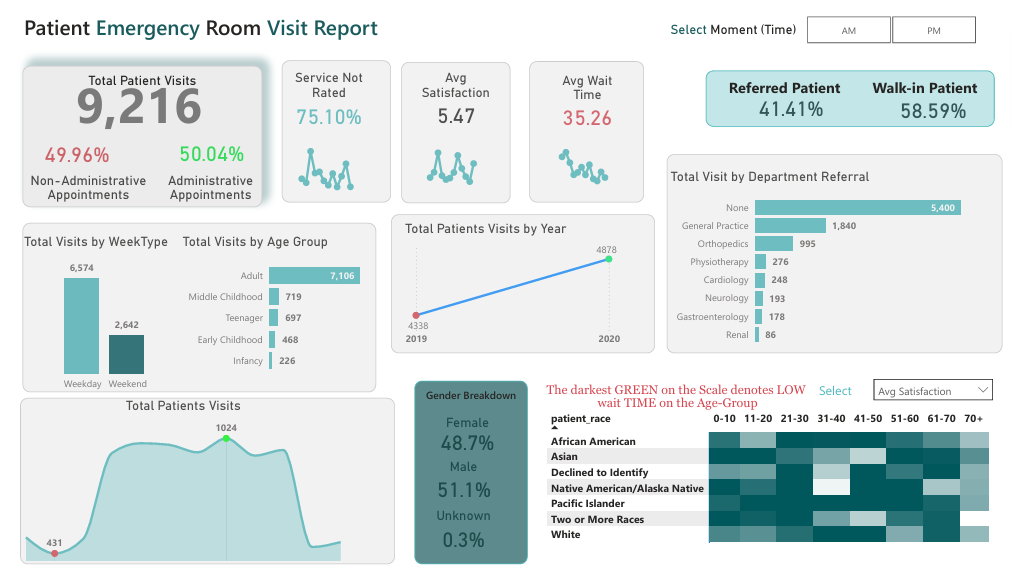

The dashboard page shown, as its layout file describes it:
{"tool":"powerbi","page":{"name":"Page 1","canvas":[1280,720],"ordinal":0},"visuals":[{"type":"card","fields":{"Values":["Calculations.Total Patients"]},"box":[11.7,71.7,305,111.7],"z":0},{"type":"card","fields":{"Values":["Calculations.% Adminstratitive Schedule"]},"box":[201.7,168.3,110,50],"z":1000},{"type":"card","fields":{"Values":["Calculations.% Non Adminstratitive Schedule"]},"box":[30,168.3,110,51.7],"z":2000},{"type":"card","title":"Avg Wait Time","fields":{"Values":["Calculations.Average Wait Time"]},"box":[691.4,90,94.3,77.1],"z":3000},{"type":"pivotTable","fields":{"Values":["Calculations.Average Satisfaction Score"],"Rows":["Patient Dataset.patient_race"],"Columns":["Patient Dataset.Age Bucket"]},"box":[681.7,518.3,578.3,190],"z":4000},{"type":"slicer","fields":{"Values":["Parameter.Parameter"]},"box":[1095,473.3,173.3,40],"z":5000},{"type":"barChart","title":"Total Visits by Age Group","fields":{"Y":["Calculations.Total Patients"],"Category":["Patient Dataset.Age Group"]},"box":[215,296.7,271.7,190],"z":6000},{"type":"areaChart","title":"Total Patients Visits","fields":{"Category":["Date.Month"],"Y":["Calculations.Total Patients","Calculations.Values Max Point (Month)"]},"box":[0,506.7,441.7,213.3],"z":7000},{"type":"slicer","fields":{"Values":["Patient Dataset.moment"]},"box":[994,12,266,48],"z":8000},{"type":"lineChart","title":"Total Patients Visits by Year","fields":{"Category":["Date.Year"],"Y":["Calculations.Total Patients","Calculations.Values Max Point (Year)"]},"box":[500,280,285,170],"z":9000},{"type":"lineChart","title":"Total Visits by Department Referral","fields":{"Category":["Date.MonthNum"],"Y":["Calculations.Average Satisfaction Score"]},"box":[351.7,171.7,115,78.3],"z":10000},{"type":"card","fields":{"Values":["Calculations.% Referred Patients"]},"box":[926.7,111.7,145,48.3],"z":11000},{"type":"card","fields":{"Values":["Calculations.% Un Referred Patients"]},"box":[1115,115,131.7,45],"z":12000},{"type":"card","fields":{"Values":["Calculations.HitMap Caption"]},"box":[665,473.3,378.3,65],"z":13000},{"type":"textbox","box":[186.7,213.3,138.3,58.3],"z":14000},{"type":"textbox","box":[11.7,213.3,175,58.3],"z":15000},{"type":"textbox","box":[15,81.7,306.7,181.7],"z":16000},{"type":"columnChart","title":"Total Visits by WeekType","fields":{"Category":["Date.WeekType"],"Y":["Calculations.Total Patients"]},"box":[11.7,296.7,218.3,210],"z":17000},{"type":"textbox","box":[890,88.3,370,71.7],"z":18000},{"type":"textbox","box":[840,20,173.3,40],"z":19000},{"type":"textbox","box":[11.7,8.3,480,56.7],"z":20000},{"type":"card","title":"Avg Satisfaction","fields":{"Values":["Calculations.Average Satisfaction Score"]},"box":[516.7,86.7,106.7,78.3],"z":21000},{"type":"card","title":"Service Not Rated","fields":{"Values":["Calculations.% No Rating"]},"box":[350,86.7,115,81.7],"z":22000},{"type":"card","title":"Female ","fields":{"Values":["Calculations.% Female Visit"]},"box":[530,528.3,110,51.7],"z":23000},{"type":"card","title":"Male ","fields":{"Values":["Calculations.% Male Visit"]},"box":[525,585,110,58.3],"z":24000},{"type":"card","title":"Unknown","fields":{"Values":["Calculations.% Unknown Visit"]},"box":[525,648.3,110,60],"z":25000},{"type":"textbox","box":[516.7,485,145,235],"z":26000},{"type":"textbox","box":[1030,481.7,65,36.7],"z":27000},{"type":"lineChart","fields":{"Y":["Calculations.% No Rating"],"Category":["Date.MonthNum"]},"box":[516.7,171.7,106.7,71.7],"z":28000},{"type":"lineChart","fields":{"Category":["Date.MonthNum"],"Y":["Calculations.Average Wait Time"]},"box":[685.7,172.9,105.7,71.4],"z":29000},{"type":"barChart","title":"Total Visit by Department Referral","fields":{"Category":["Patient Dataset.department_referral"],"Y":["Calculations.Total Patients"]},"box":[840,213.3,420,236.7],"z":30000},{"type":"textbox","box":[15,283.3,453.3,216.7],"z":31000},{"type":"textbox","box":[11.7,506.7,480,213.3],"z":32000},{"type":"textbox","box":[840,195,430,255],"z":33000},{"type":"textbox","box":[486.7,271.7,338.3,178.3],"z":34000},{"type":"textbox","box":[346.7,75,140,181.7],"z":35000},{"type":"textbox","box":[500,76.7,140,181.7],"z":36000},{"type":"textbox","box":[664.3,75.7,147.1,181.4],"z":37000}]}

Visuals, with their boxes in screenshot pixels (x1, y1, x2, y2), scaled from the page's 1280x720 canvas onto the 1017x572 screenshot:
card - Calculations.Total Patients: (x1=9, y1=57, x2=252, y2=146)
card - Calculations.% Adminstratitive Schedule: (x1=160, y1=134, x2=248, y2=173)
card - Calculations.% Non Adminstratitive Schedule: (x1=24, y1=134, x2=111, y2=175)
"Avg Wait Time" card: (x1=549, y1=72, x2=624, y2=133)
pivotTable - Calculations.Average Satisfaction Score x Patient Dataset.patient_race: (x1=542, y1=412, x2=1001, y2=563)
slicer - Parameter.Parameter: (x1=870, y1=376, x2=1008, y2=408)
"Total Visits by Age Group" barChart: (x1=171, y1=236, x2=387, y2=387)
"Total Patients Visits" areaChart: (x1=0, y1=403, x2=351, y2=571)
slicer - Patient Dataset.moment: (x1=790, y1=10, x2=1001, y2=48)
"Total Patients Visits by Year" lineChart: (x1=397, y1=222, x2=624, y2=358)
"Total Visits by Department Referral" lineChart: (x1=279, y1=136, x2=371, y2=199)
card - Calculations.% Referred Patients: (x1=736, y1=89, x2=851, y2=127)
card - Calculations.% Un Referred Patients: (x1=886, y1=91, x2=991, y2=127)
card - Calculations.HitMap Caption: (x1=528, y1=376, x2=829, y2=428)
textbox: (x1=148, y1=169, x2=258, y2=216)
textbox: (x1=9, y1=169, x2=148, y2=216)
textbox: (x1=12, y1=65, x2=256, y2=209)
"Total Visits by WeekType" columnChart: (x1=9, y1=236, x2=183, y2=403)
textbox: (x1=707, y1=70, x2=1001, y2=127)
textbox: (x1=667, y1=16, x2=805, y2=48)
textbox: (x1=9, y1=7, x2=391, y2=52)
"Avg Satisfaction" card: (x1=411, y1=69, x2=495, y2=131)
"Service Not Rated" card: (x1=278, y1=69, x2=369, y2=134)
"Female " card: (x1=421, y1=420, x2=508, y2=461)
"Male " card: (x1=417, y1=465, x2=505, y2=511)
"Unknown" card: (x1=417, y1=515, x2=505, y2=563)
textbox: (x1=411, y1=385, x2=526, y2=571)
textbox: (x1=818, y1=383, x2=870, y2=412)
lineChart - Calculations.% No Rating x Date.MonthNum: (x1=411, y1=136, x2=495, y2=193)
lineChart - Date.MonthNum x Calculations.Average Wait Time: (x1=545, y1=137, x2=629, y2=194)
"Total Visit by Department Referral" barChart: (x1=667, y1=169, x2=1001, y2=358)
textbox: (x1=12, y1=225, x2=372, y2=397)
textbox: (x1=9, y1=403, x2=391, y2=571)
textbox: (x1=667, y1=155, x2=1009, y2=358)
textbox: (x1=387, y1=216, x2=655, y2=358)
textbox: (x1=275, y1=60, x2=387, y2=204)
textbox: (x1=397, y1=61, x2=508, y2=205)
textbox: (x1=528, y1=60, x2=645, y2=204)
